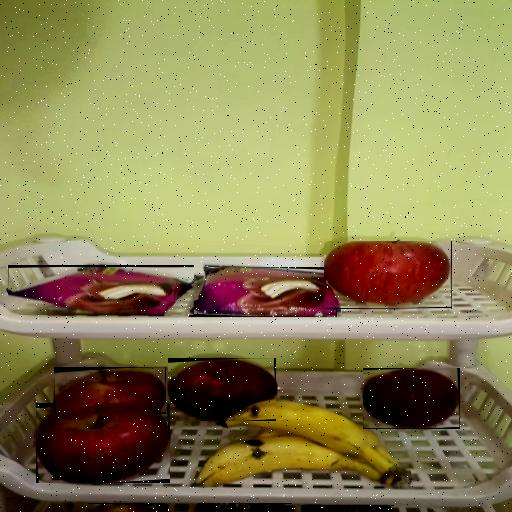Apple: (36, 403, 170, 483), (324, 242, 452, 310), (168, 358, 276, 421), (363, 368, 460, 429), (54, 367, 166, 414), (88, 503, 165, 512)
Choco Fills: (198, 504, 292, 512), (302, 506, 394, 512)
Choco Pie: (8, 265, 194, 315), (189, 267, 337, 317)
